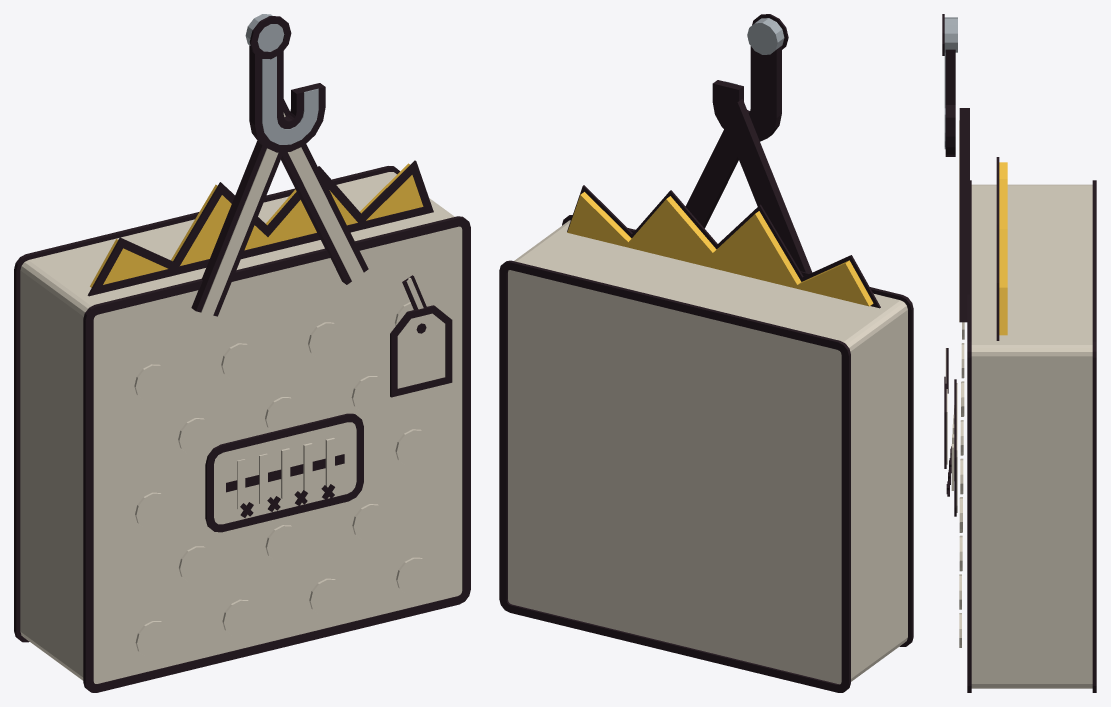
3 views of the same model, side by side, from view 1: azimuth 30°, elevation 25°; view 2: azimuth 150°, elevation 25°; view 3: azimuth 270°, elevation 25° (orthographic). The views are drawn at different scales.
Parts seen in each view (by area): view 1: Bag Holders proposal; view 2: Bag Holders proposal; view 3: Bag Holders proposal.
Part boxes in pixels (x1,y1,x2,y2): Bag Holders proposal: (14,14,470,692); Bag Holders proposal: (499,14,913,692); Bag Holders proposal: (942,14,1096,692).
Bounding box in the file's own units: 0.6316 × 1.01 × 0.2421.
